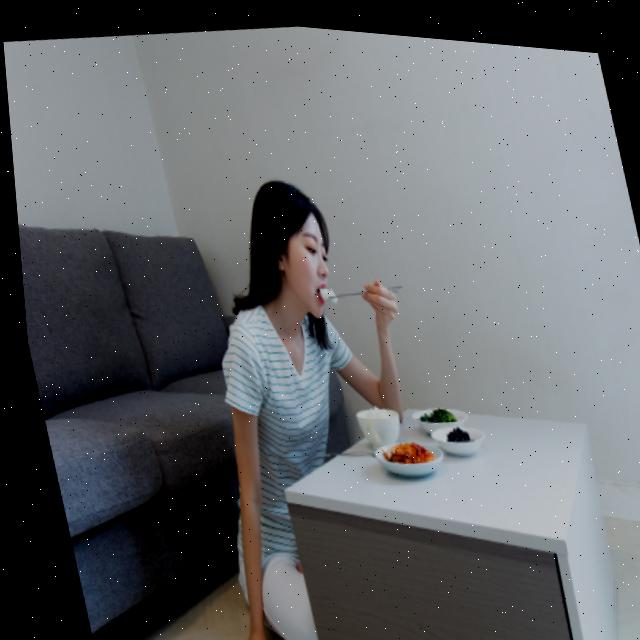eating-person: (87, 119, 535, 640)
